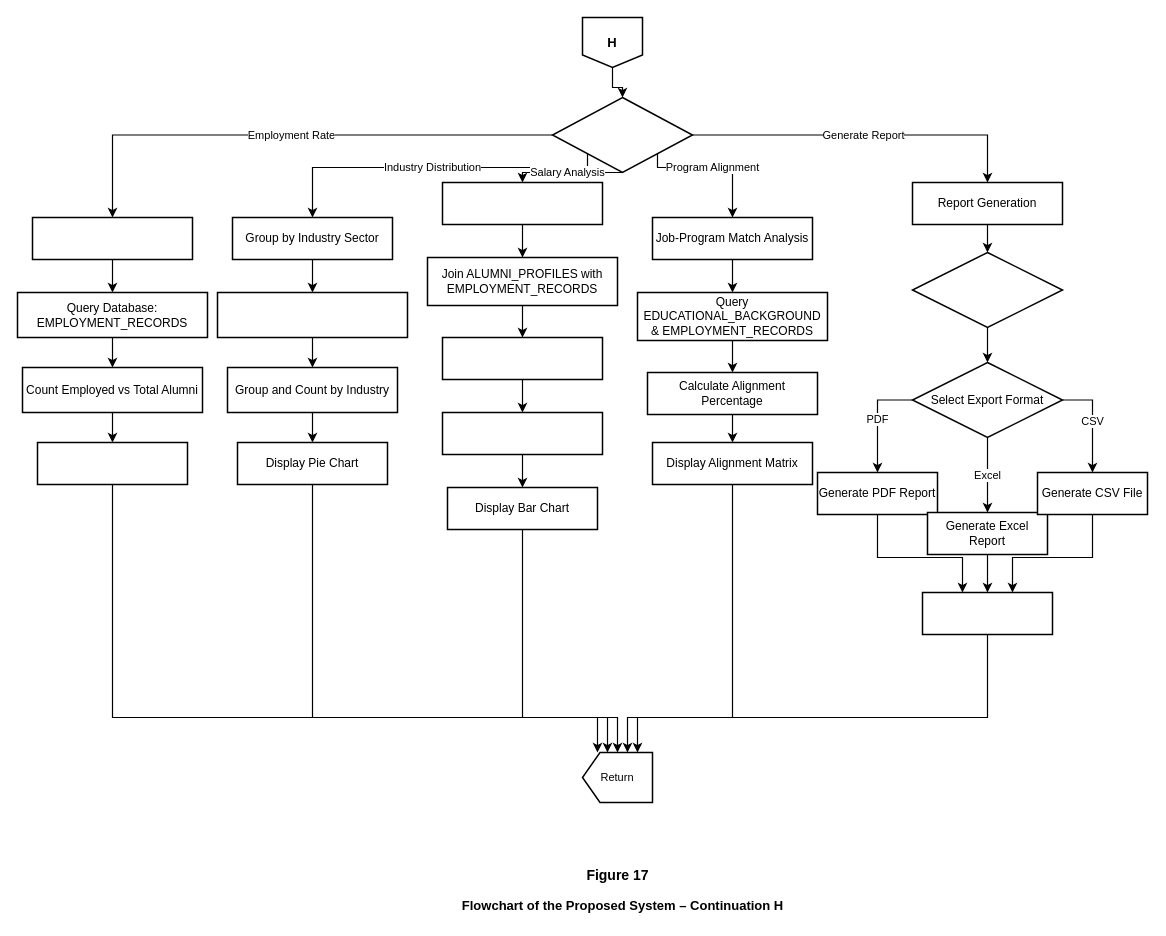
The diagram is 1166 pixels wide and 936 high, and some of its shapes have lost their labels. Here are the shapes that lost their labels. From the top down, the box of each, then its label:
(551, 96, 693, 173): Analytics Menu
(441, 181, 603, 225): Average Salary by Program
(31, 216, 193, 260): Calculate Employment Rate
(911, 251, 1063, 328): Select Metrics to Include
(216, 291, 408, 338): Query Database: EMPLOYMENT_RECORDS.industry_sector
(441, 336, 603, 380): Group by Program/Major
(441, 411, 603, 455): Calculate Average Salary
(36, 441, 188, 485): Display Percentage Chart
(921, 591, 1053, 635): Download File
